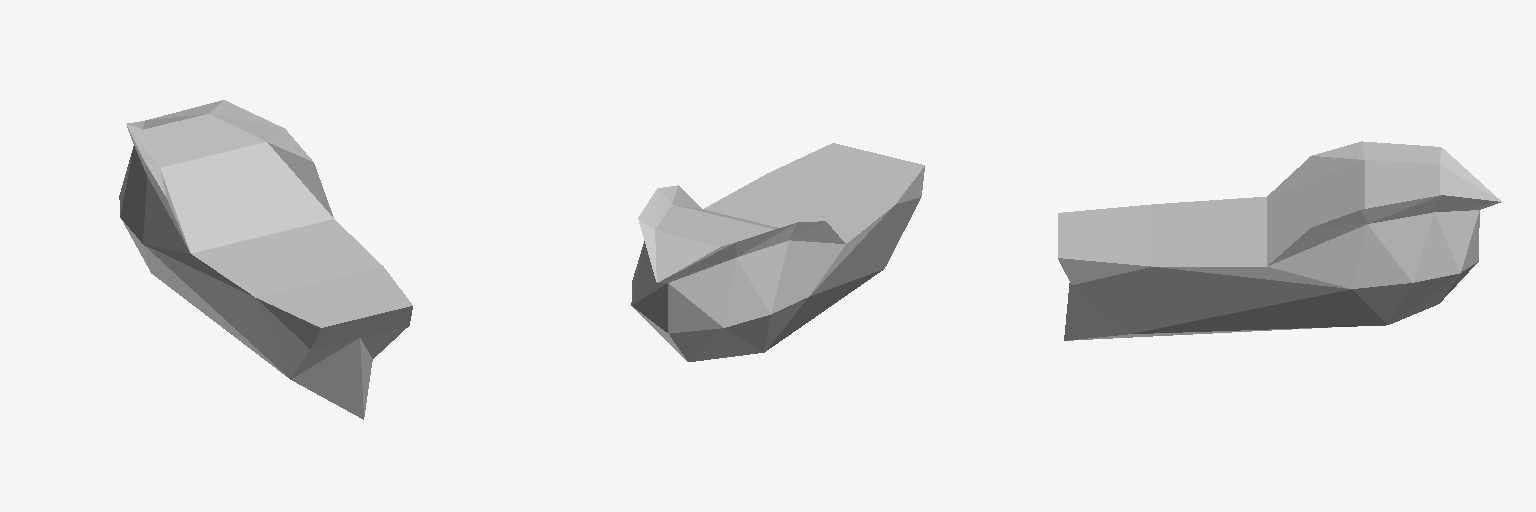
The model's file is hull.obj.
The picture shows the model from 3 angles: view 1: azimuth 30°, elevation 25°; view 2: azimuth 150°, elevation 25°; view 3: azimuth 270°, elevation 25°; orthographic projection.
Size of the model in its own units: 0.3765 by 0.3958 by 0.9387.